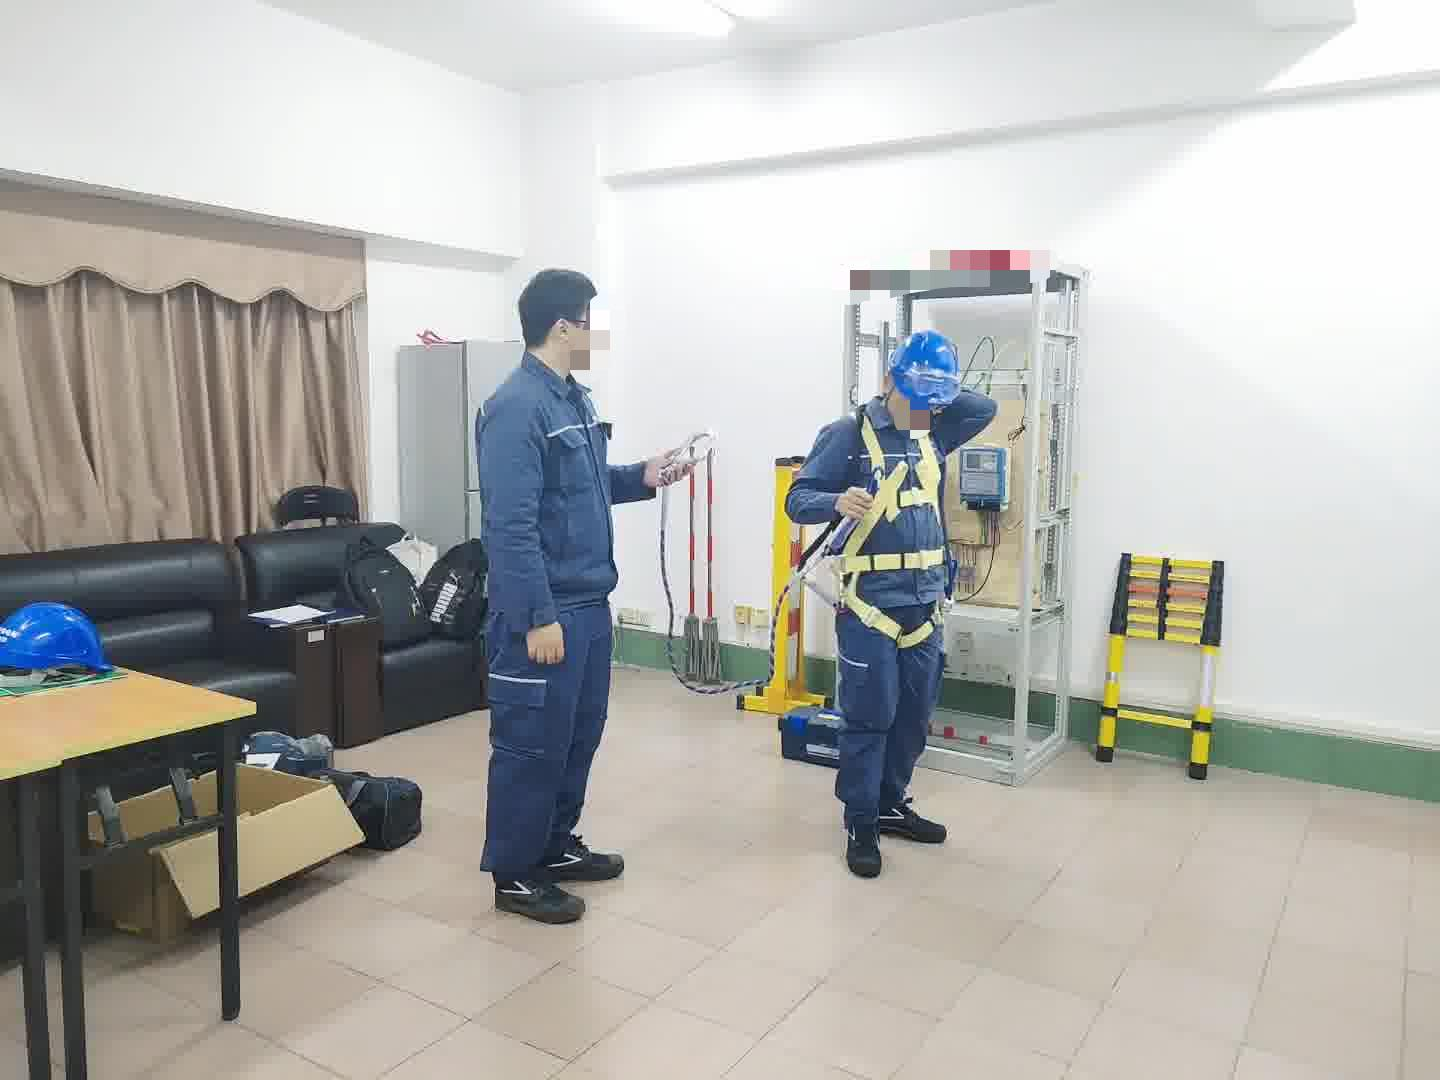halt: (889, 334, 964, 427)
noear: (545, 317, 585, 357)
unhalt: (518, 272, 612, 372)
